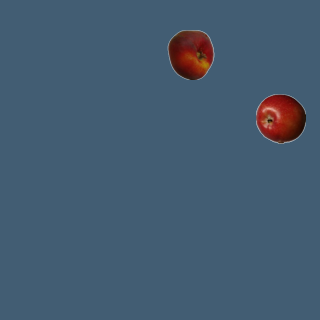Apple Braeburn: (255, 93, 305, 143)
Nectarine Flat: (165, 29, 215, 79)
